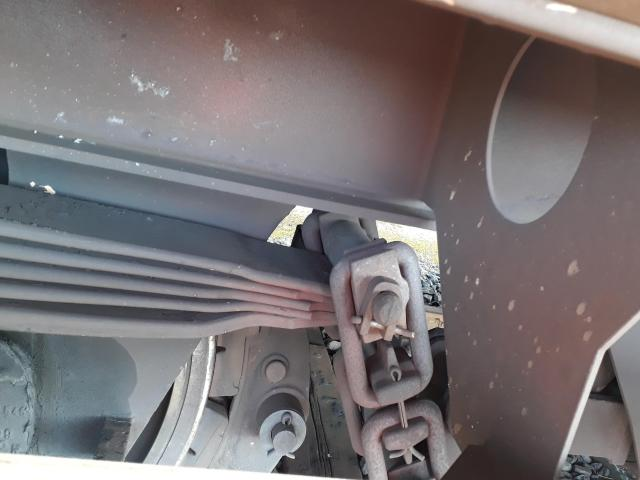blattfederww: (1, 251, 322, 332)
